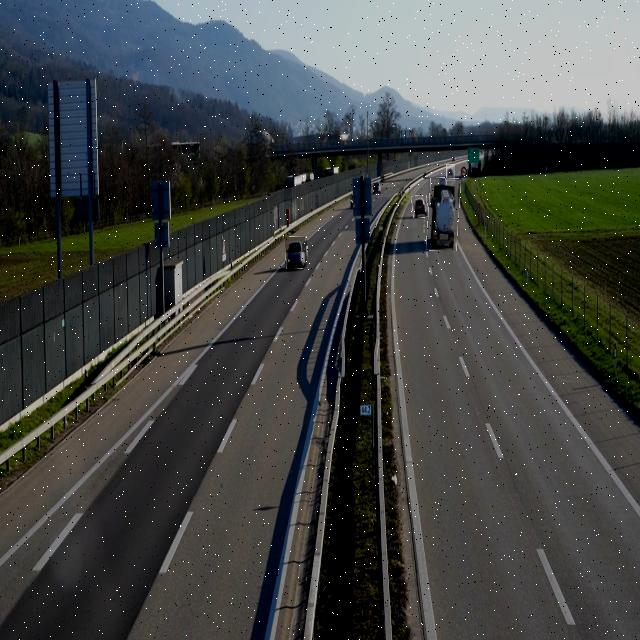Car: (286, 237, 308, 269), (412, 196, 427, 218), (446, 164, 455, 181), (373, 178, 381, 194)
Truck: (428, 178, 460, 251)
